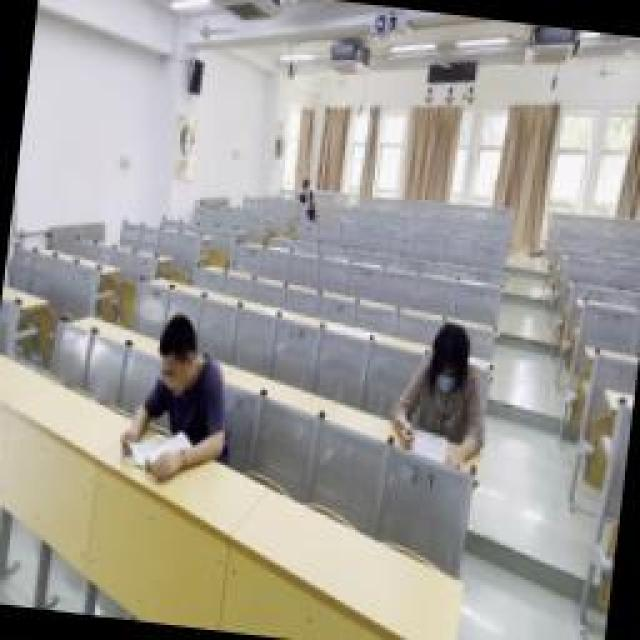study: (118, 312, 238, 482), (385, 320, 497, 462), (297, 177, 315, 205)
